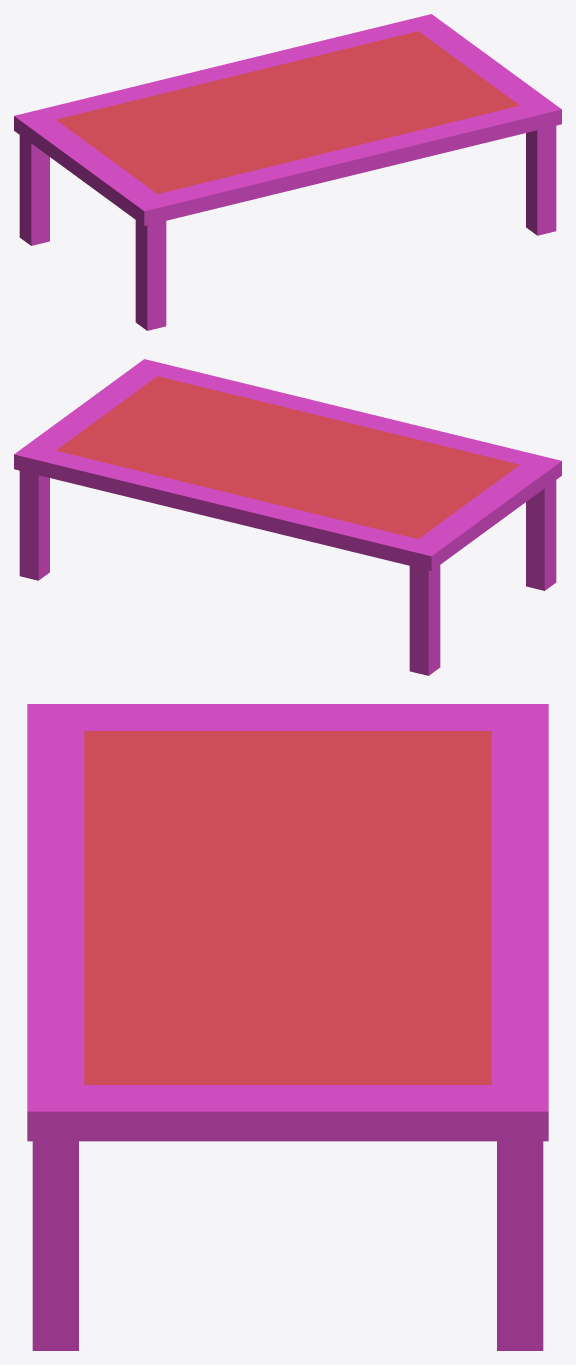
File: S_Table.fbx
The picture shows the model from 3 angles, top to bottom: view 1: azimuth 30°, elevation 25°; view 2: azimuth 150°, elevation 25°; view 3: azimuth 270°, elevation 25°; orthographic projection. The views are drawn at different scales.
Parts seen in each view (by area): view 1: S_Table; view 2: S_Table; view 3: S_Table.
Part boxes in pixels (box(x1,y1,x2,y2)): S_Table: box(14, 14, 561, 330); S_Table: box(14, 359, 561, 675); S_Table: box(27, 704, 548, 1350).
Bounding box in the file's own units: 306 × 85.21 × 166.
